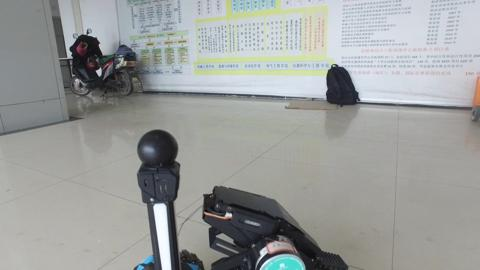chariot: (128, 138, 336, 270)
